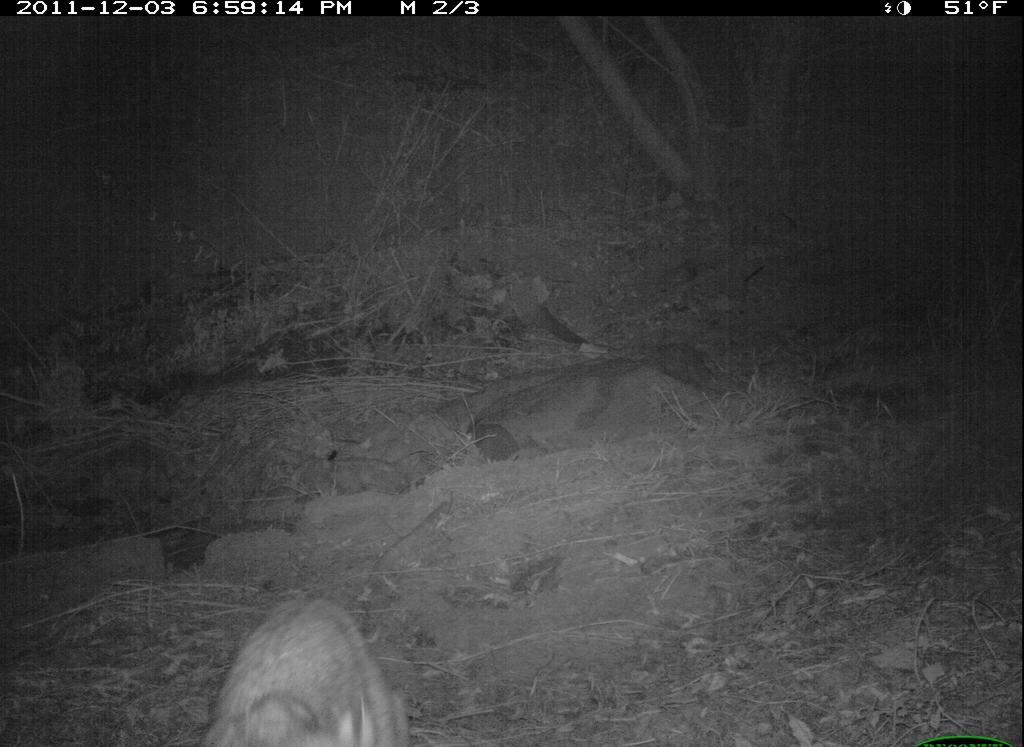bobcat: (189, 586, 415, 747)
